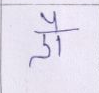ai_matra: (41, 12, 62, 30)
